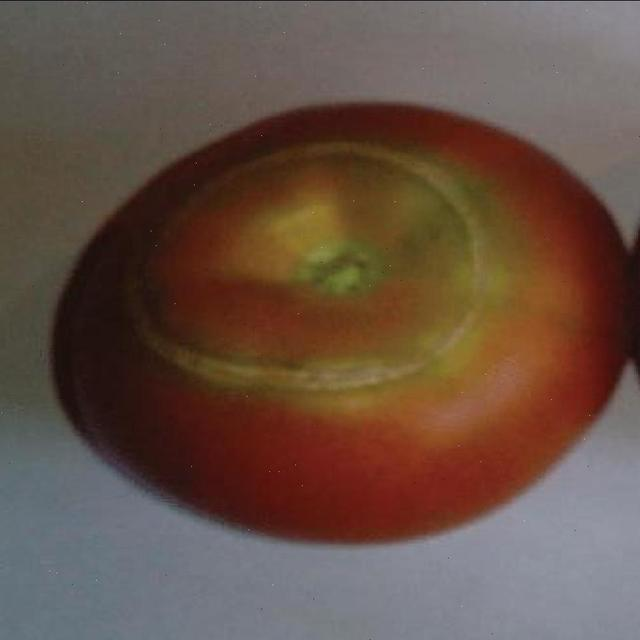Cracking Fruit: (69, 92, 335, 263)
